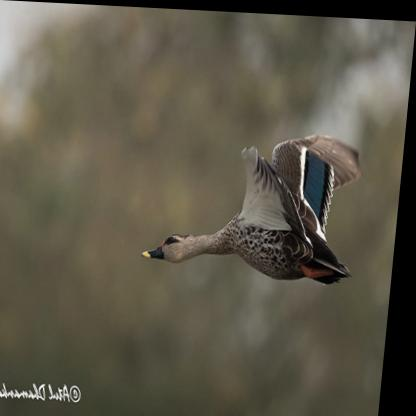Burung: (145, 122, 369, 281)
